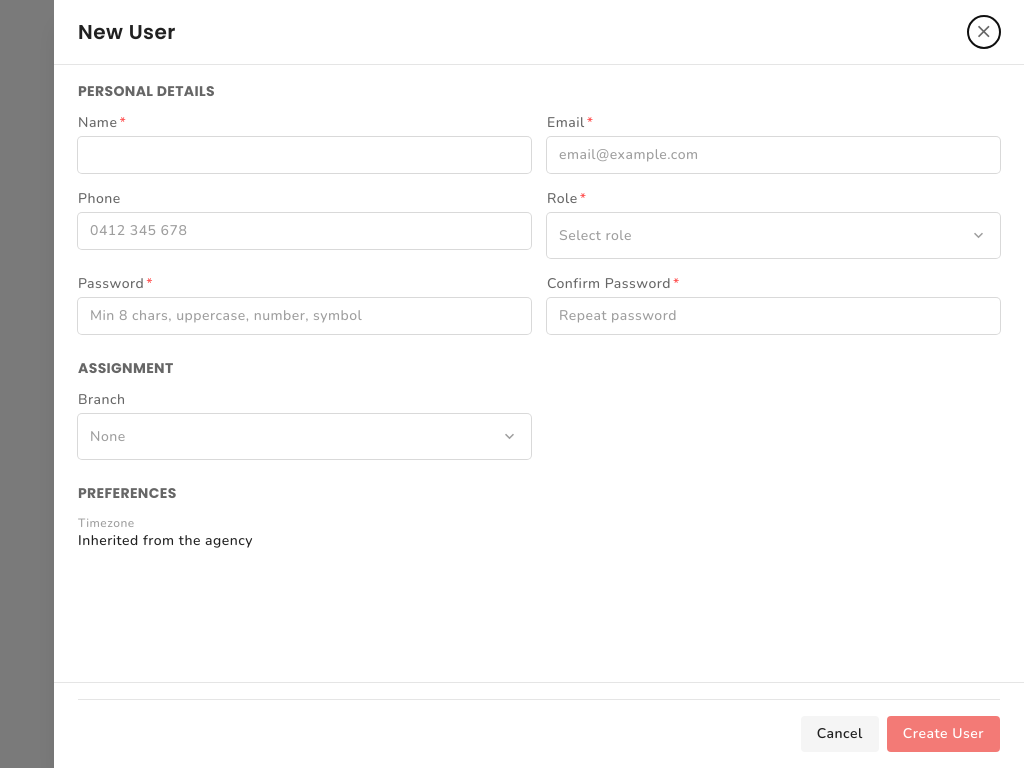
Test: UserFormDrawer › shows validation errors and prevents save when validation fails
The width and height of the screenshot is (1024, 768).
Click the button "Create User" at (943,734), box [887,716,1000,752]
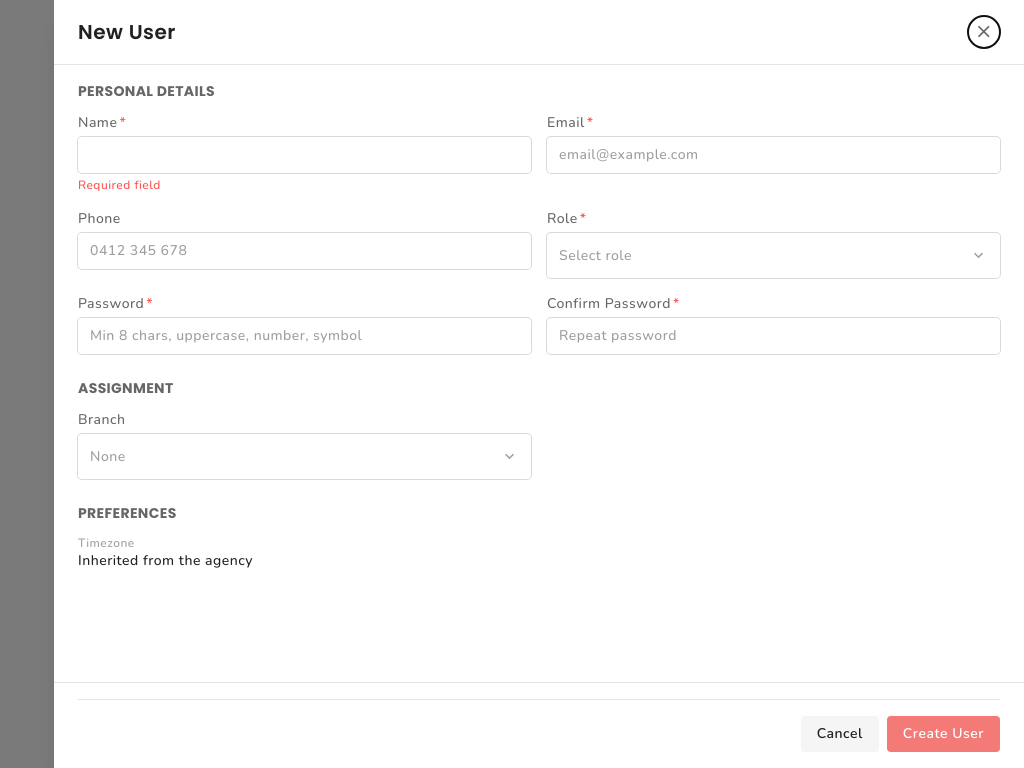
Check: the text "Required field" is shown, box [78,177,161,193]
